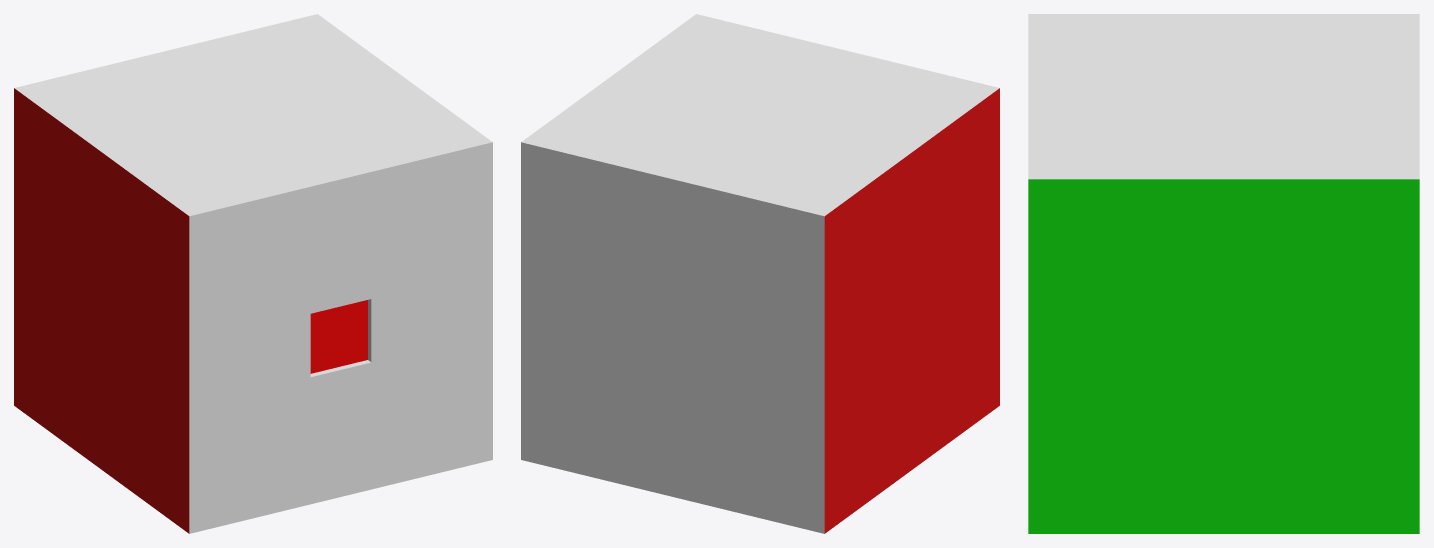
The model's file is cornell_box2.obj.
The picture shows the model from 3 angles, left to right: view 1: azimuth 30°, elevation 25°; view 2: azimuth 150°, elevation 25°; view 3: azimuth 270°, elevation 25°; orthographic projection. The views are drawn at different scales.
Parts seen in each view (by area): view 1: Box, LeftWall, LightSource; view 2: Box, LeftWall; view 3: RightWall, Box.
Part boxes in pixels (left/top/right/bottom): Box: left=14, top=14, right=492, bottom=533; LeftWall: left=14, top=88, right=189, bottom=533; LightSource: left=310, top=300, right=367, bottom=373; Box: left=521, top=14, right=999, bottom=533; LeftWall: left=824, top=88, right=999, bottom=533; RightWall: left=1028, top=179, right=1419, bottom=533; Box: left=1028, top=14, right=1419, bottom=179.
Size of the model in its own units: 500 by 500 by 500.
